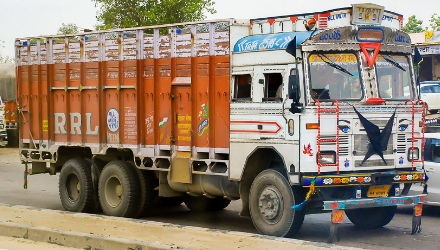truck: (10, 11, 424, 239)
